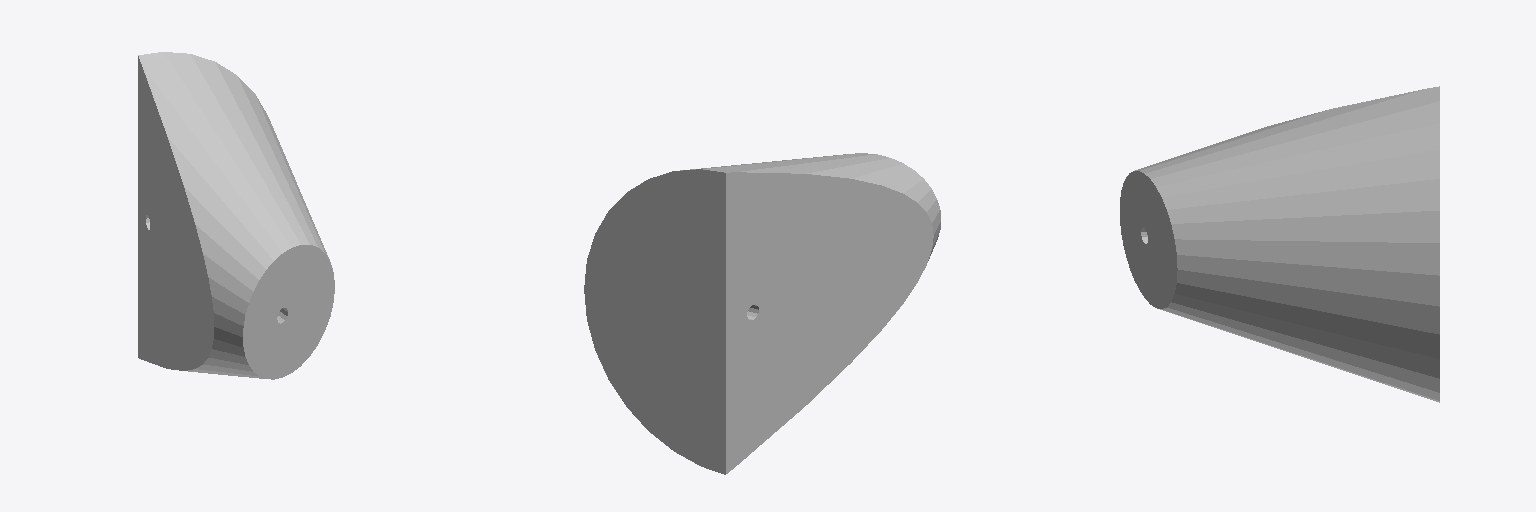
The model's file is ellipse.obj.
3 renders of one model, left to right at view 1: azimuth 30°, elevation 25°; view 2: azimuth 150°, elevation 25°; view 3: azimuth 270°, elevation 25°, orthographic.
Parts seen in each view (by area): view 1: <STL_BINARY>; view 2: <STL_BINARY>; view 3: <STL_BINARY>.
Boxes of the visible parts, box(x1,y1,x2,y2) form: <STL_BINARY>: box(138, 52, 334, 379); <STL_BINARY>: box(584, 153, 940, 474); <STL_BINARY>: box(1120, 86, 1439, 402).
Bounding box in the file's own units: 57.32 × 79.82 × 76.73.